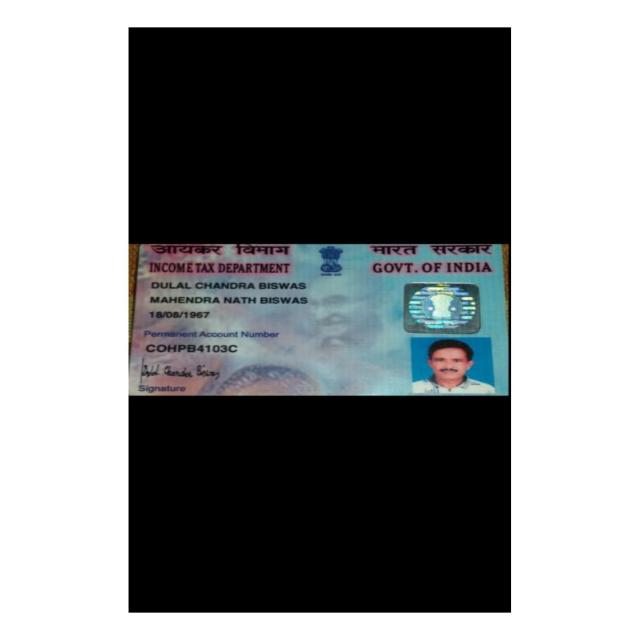pan_card: (132, 243, 506, 396)
